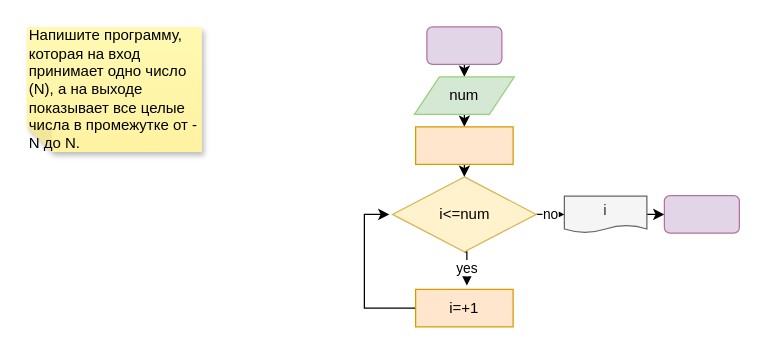
Some shapes in this 761 by 349 pixel diagram are drawn without their labels. The shapes that lost their labels are listed below. From the top down, each one's centre as x and y in pixels, then its label:
(x=464, y=45): START
(x=463, y=145): i=-num
(x=701, y=213): FINISH
